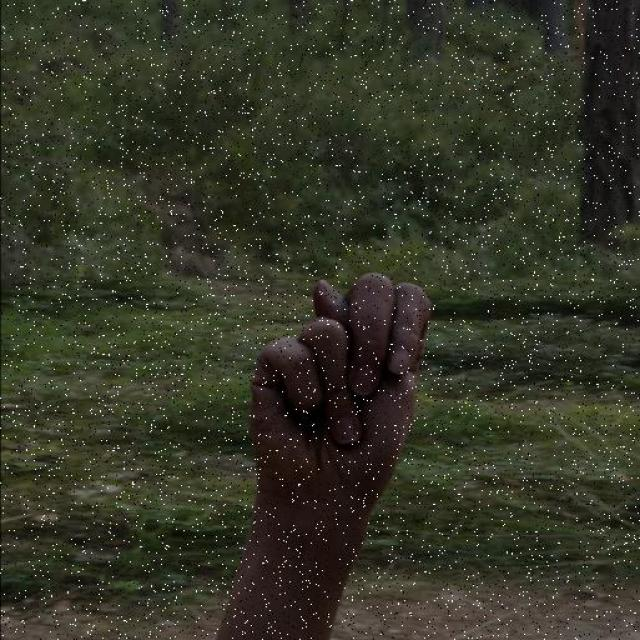N: (242, 269, 434, 529)
